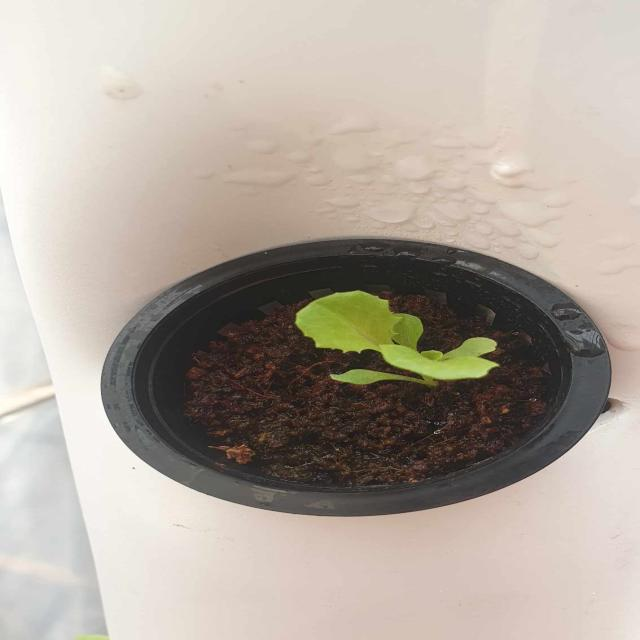Lettuce-Not-Ready-to-Harvest: (282, 280, 505, 398)
